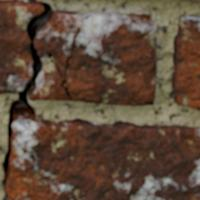brick: (6, 119, 199, 199), (172, 15, 199, 109)
broken_brick: (29, 10, 157, 106), (0, 0, 42, 94)
crack: (0, 2, 57, 198), (44, 14, 93, 101), (153, 28, 156, 54), (27, 0, 36, 2)
